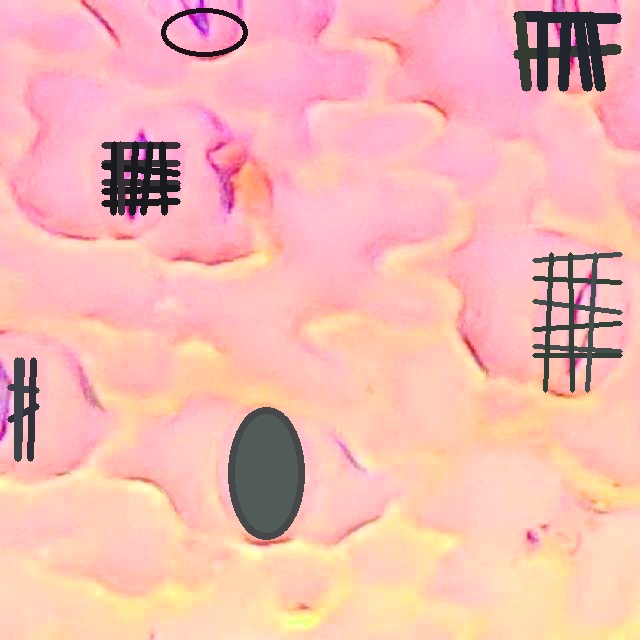open: (533, 253, 622, 392), (228, 407, 305, 539), (513, 11, 620, 91), (101, 141, 180, 215), (161, 6, 247, 57), (8, 358, 38, 461)
